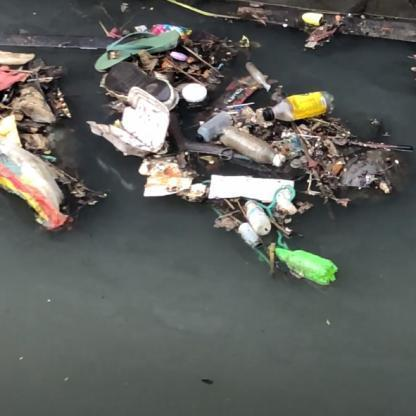foam: (86, 85, 171, 155), (210, 173, 298, 199)
plastic bottle: (272, 244, 338, 286), (220, 125, 286, 166), (263, 91, 335, 122), (196, 112, 234, 142), (244, 199, 273, 236)
